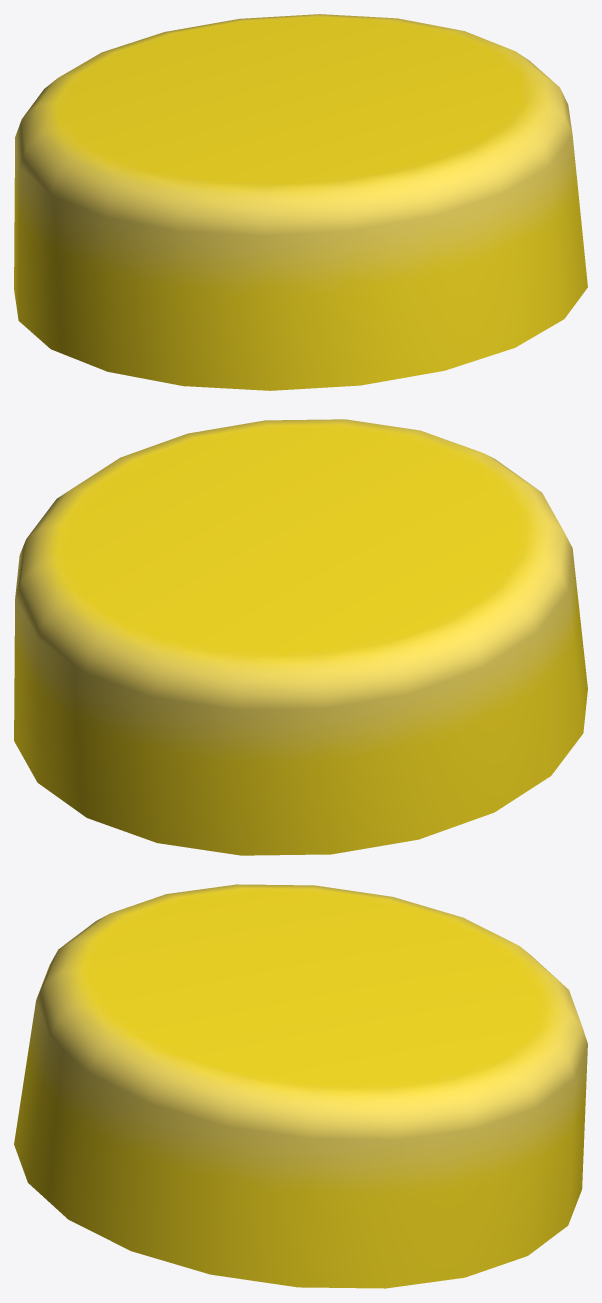
Rendered from Tetris_ButtonB.fbx.
3 views of the same model, one above another, from view 1: azimuth 30°, elevation 25°; view 2: azimuth 150°, elevation 25°; view 3: azimuth 270°, elevation 25° (orthographic).
Parts seen in each view (by area): view 1: Tetris_ButtonB; view 2: Tetris_ButtonB; view 3: Tetris_ButtonB.
Part boxes in pixels (x1,y1,x2,y2): Tetris_ButtonB: (14,14,587,390); Tetris_ButtonB: (14,419,587,855); Tetris_ButtonB: (14,884,587,1288).
Size of the model in its own units: 4.45 by 1.89 by 4.48.
